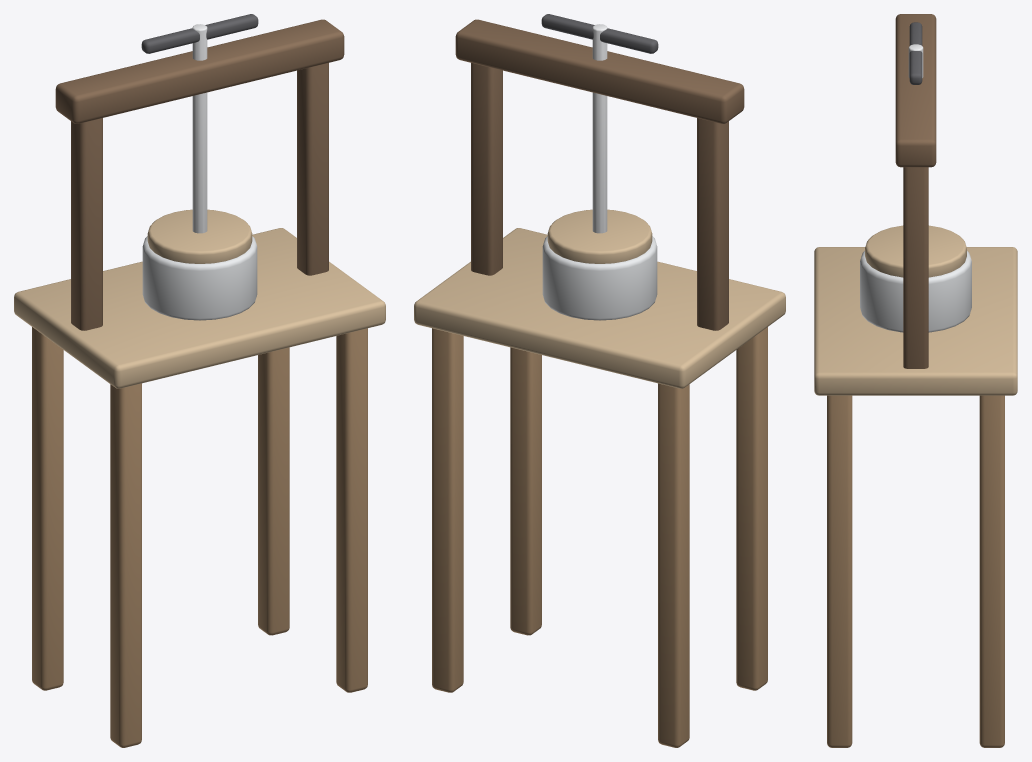
Rendered from Prasa.fbx.
3 views of the same model, side by side, from view 1: azimuth 30°, elevation 25°; view 2: azimuth 150°, elevation 25°; view 3: azimuth 270°, elevation 25° (orthographic). The views are drawn at different scales.
Parts seen in each view (by area): view 1: Prasa_Korpus, Prasa_Tlok; view 2: Prasa_Korpus, Prasa_Tlok; view 3: Prasa_Korpus, Prasa_Tlok.
Part boxes in pixels (x1,y1,x2,y2): Prasa_Korpus: (14,19,385,747); Prasa_Tlok: (141,14,258,263); Prasa_Korpus: (414,19,785,747); Prasa_Tlok: (541,14,658,263); Prasa_Korpus: (814,14,1017,747); Prasa_Tlok: (865,22,966,277).
Bounding box in the file's own units: 60 × 139 × 40.
